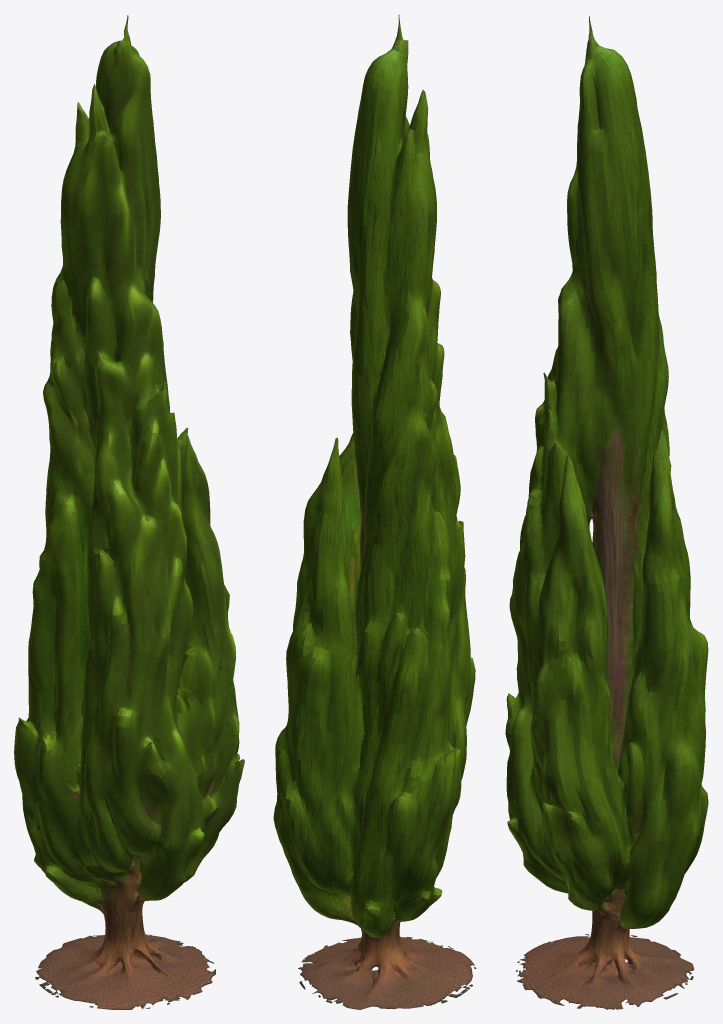
Rendered from veg_conifer_cypress_01.glb.
3 views of the same model, side by side, from view 1: azimuth 30°, elevation 25°; view 2: azimuth 150°, elevation 25°; view 3: azimuth 270°, elevation 25° (orthographic).
Visible parts, largest first — view 1: veg_conifer_cypress_01; view 2: veg_conifer_cypress_01; view 3: veg_conifer_cypress_01.
Part boxes in pixels (<box>): veg_conifer_cypress_01: <box>14,15,244,1009</box>; veg_conifer_cypress_01: <box>273,14,476,1009</box>; veg_conifer_cypress_01: <box>505,15,708,1009</box>.
Bounding box in the file's own units: 8.41 × 41.54 × 8.
1 material, 1 textured.
